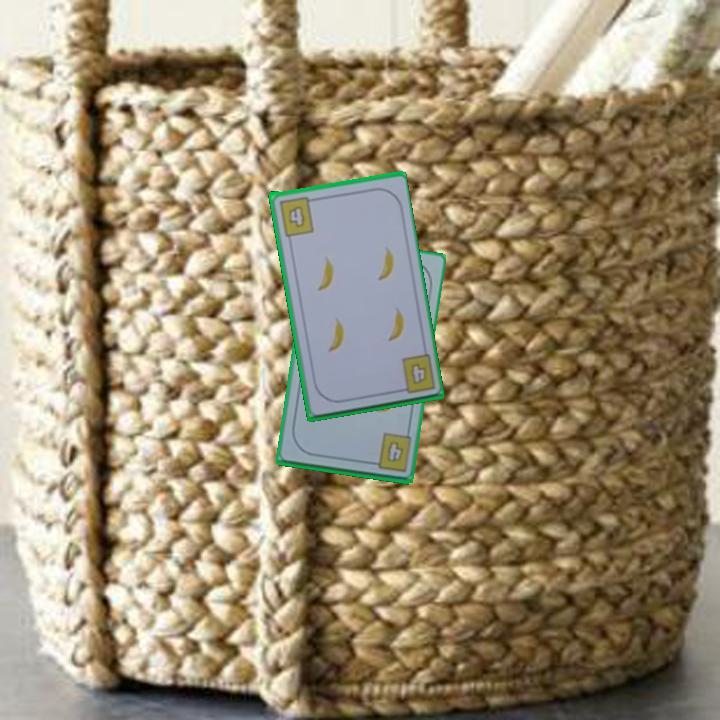4b: (366, 430, 412, 474), (275, 193, 318, 239), (407, 359, 429, 385)
